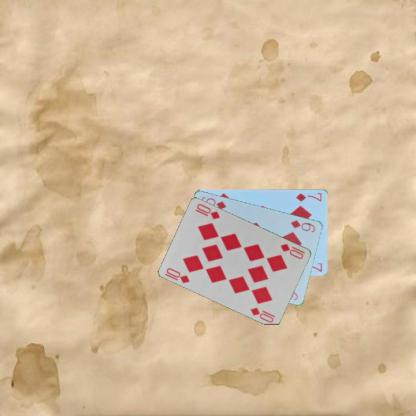10d: (278, 241, 306, 260), (164, 265, 191, 284)
6d: (288, 218, 317, 234)
7d: (293, 190, 323, 203)
